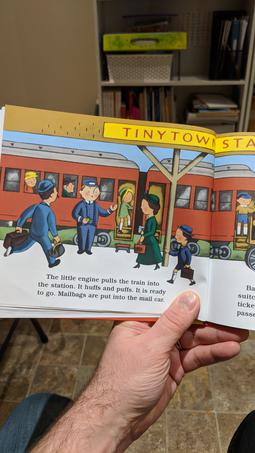text block: (33, 266, 170, 307), (227, 278, 255, 321)
